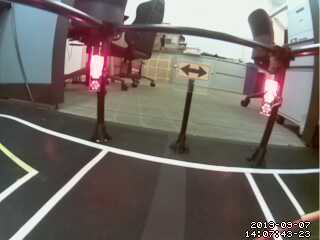Left_Right_sign: (175, 58, 216, 88)
Traffic_light_red: (261, 76, 282, 118), (89, 55, 109, 93)
